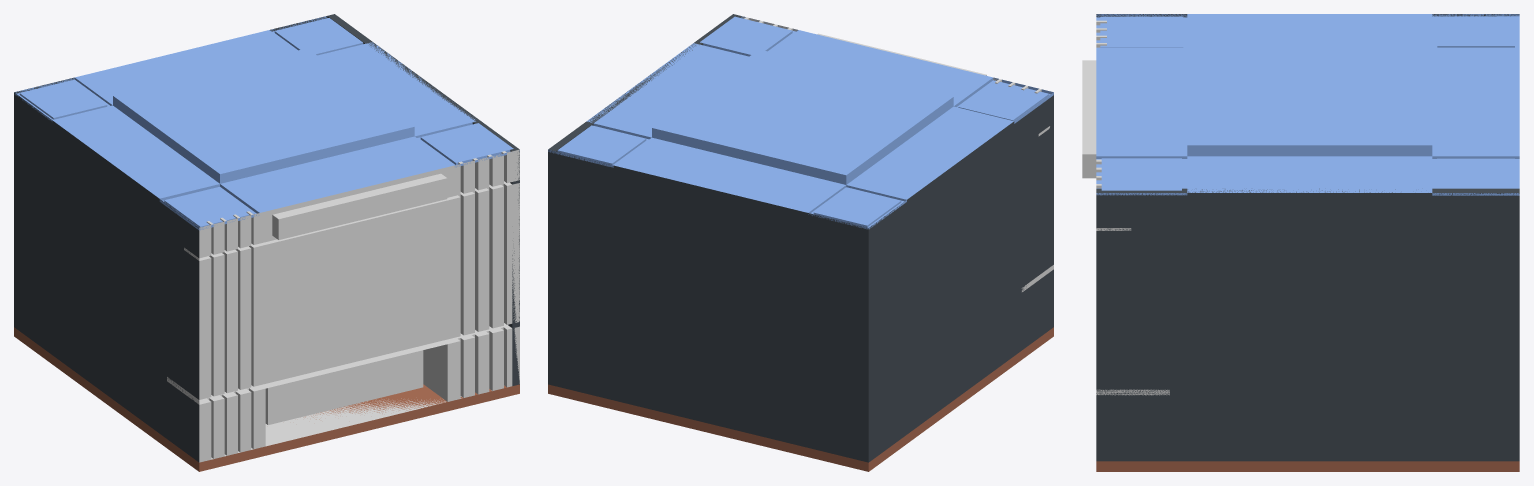
File: uploads_files_3640451_Tv+hall+.fbx
3 renders of one model, left to right at view 1: azimuth 30°, elevation 25°; view 2: azimuth 150°, elevation 25°; view 3: azimuth 270°, elevation 25°, orthographic. The views are drawn at different scales.
Parts seen in each view (by area): view 1: wall, roof, Cube.001, floor, Cube.002; view 2: frontwall, roof, Cube.001, floor, Cube.002, wall; view 3: Cube.002, roof, floor, wall.
Boxes of the visible parts, x1,y1,x2,y2 form: wall: (167, 149, 519, 462); roof: (14, 16, 519, 230); Cube.001: (14, 93, 199, 462); floor: (14, 327, 519, 471); Cube.002: (327, 14, 519, 386); frontwall: (548, 150, 868, 462); roof: (548, 16, 1053, 229); Cube.001: (868, 94, 1053, 462); floor: (548, 327, 1053, 471); Cube.002: (548, 14, 740, 384); wall: (740, 16, 1053, 291); Cube.002: (1096, 188, 1519, 461); roof: (1096, 14, 1519, 195); floor: (1096, 461, 1519, 471); wall: (1082, 20, 1169, 395).
Bounding box in the file's own units: 400 × 303 × 413.
